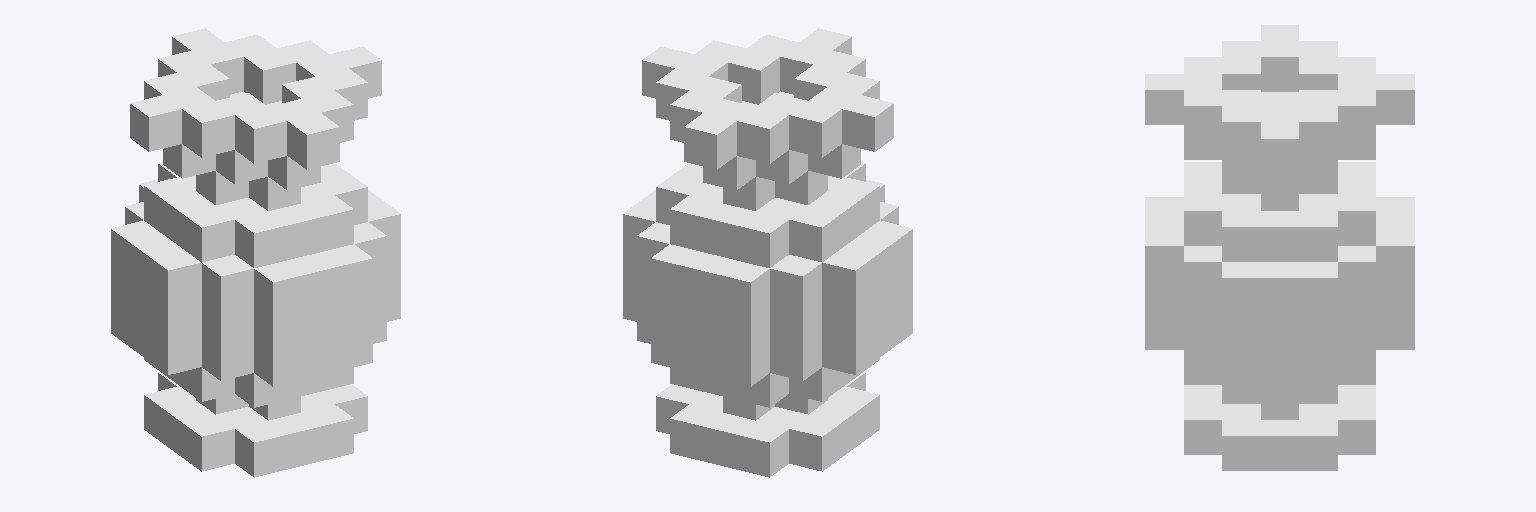
The model's file is vaZA.obj.
3 renders of one model, left to right at view 1: azimuth 30°, elevation 25°; view 2: azimuth 150°, elevation 25°; view 3: azimuth 270°, elevation 25°, orthographic.
Visible parts, largest first — view 1: object 1; view 2: object 1; view 3: object 1.
Boxes of the visible parts, x1,y1,x2,y2 form: object 1: [111, 28, 400, 477]; object 1: [623, 28, 912, 477]; object 1: [1145, 25, 1414, 470].
Bounding box in the file's own units: 0.7 × 1 × 0.7.